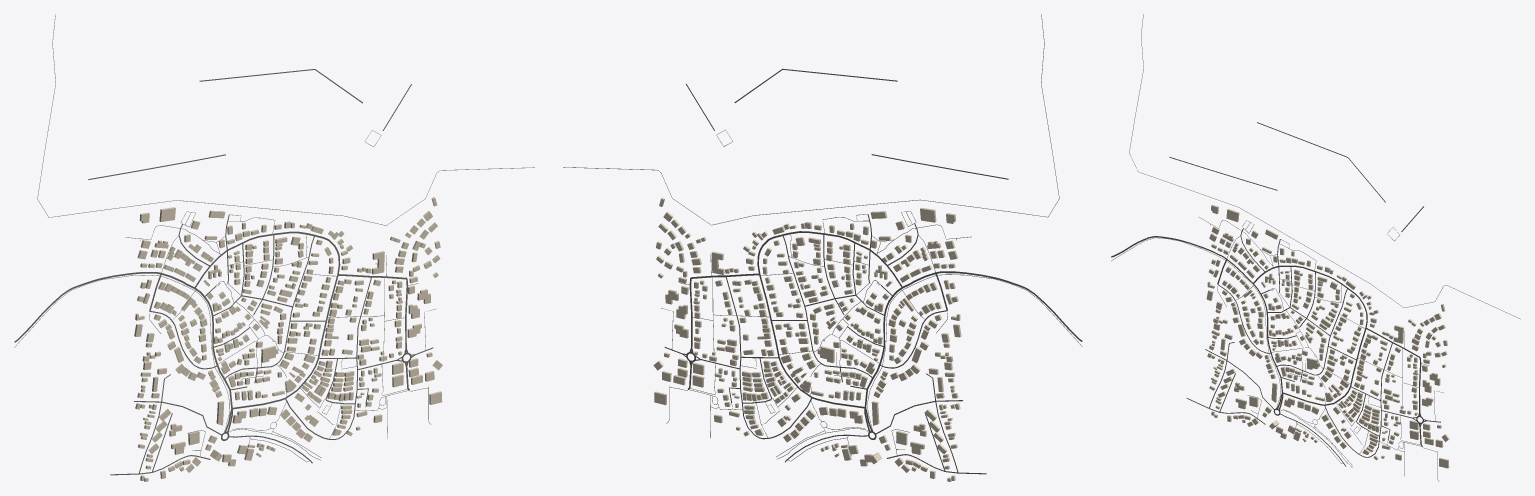
The model's file is historic-palestine-07_27_3485_3213.glb.
3 renders of one model, left to right at view 1: azimuth 30°, elevation 25°; view 2: azimuth 150°, elevation 25°; view 3: azimuth 330°, elevation 25°, orthographic. The views are drawn at different scales.
Parts seen in each view (by area): view 1: Road .087, Road המלכים; view 2: Road .087, Road המלכים; view 3: Road .087, Road המלכים.
Part boxes in pixels (left/top/right/bottom): Road .087: left=37, top=14, right=534, bottom=225; Road המלכים: left=14, top=272, right=232, bottom=408; Road .087: left=563, top=14, right=1059, bottom=225; Road המלכים: left=864, top=271, right=1082, bottom=407; Road .087: left=1129, top=14, right=1520, bottom=319; Road המלכים: left=1111, top=236, right=1282, bottom=392.
Size of the model in its own units: 1643 by 1545 by 29.1.
